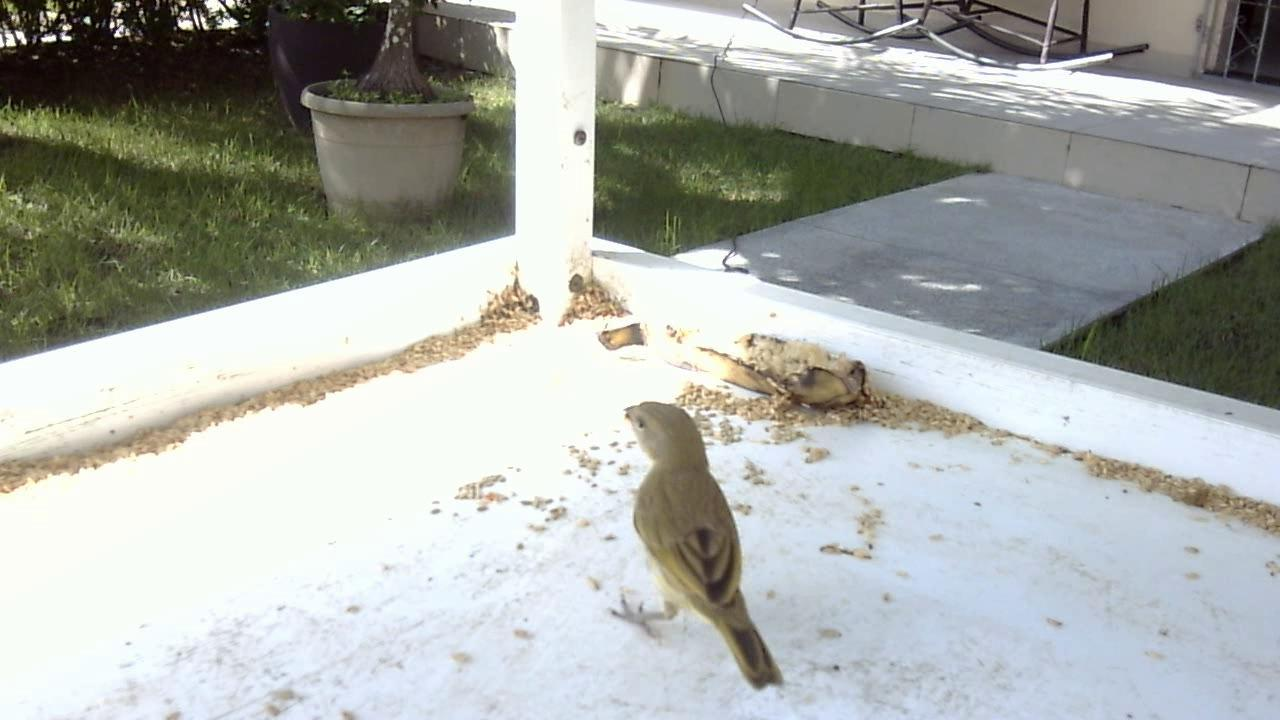canario_do_amazonas: (602, 390, 791, 705)
